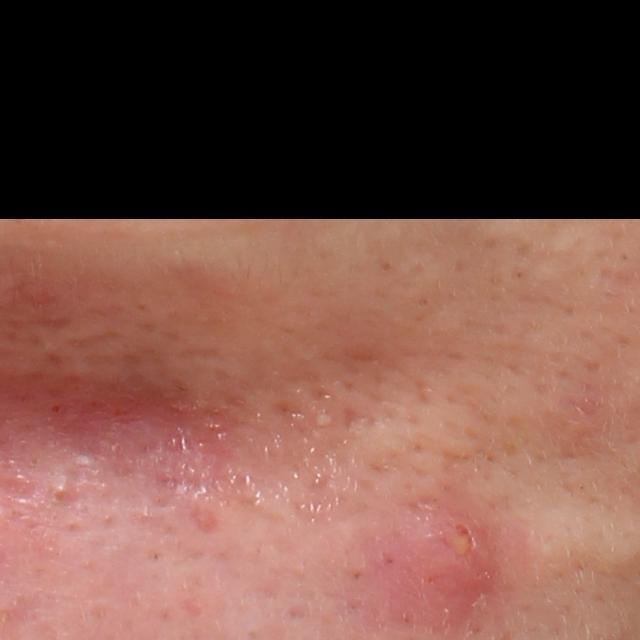papule: (5, 468, 32, 487), (48, 480, 70, 500)
pustule: (384, 506, 518, 622)
